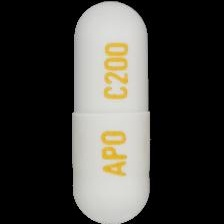61786-940: (0, 0, 224, 224)
